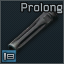HK Prolonged 7.62x51 flash hider: (0, 0, 64, 64)
